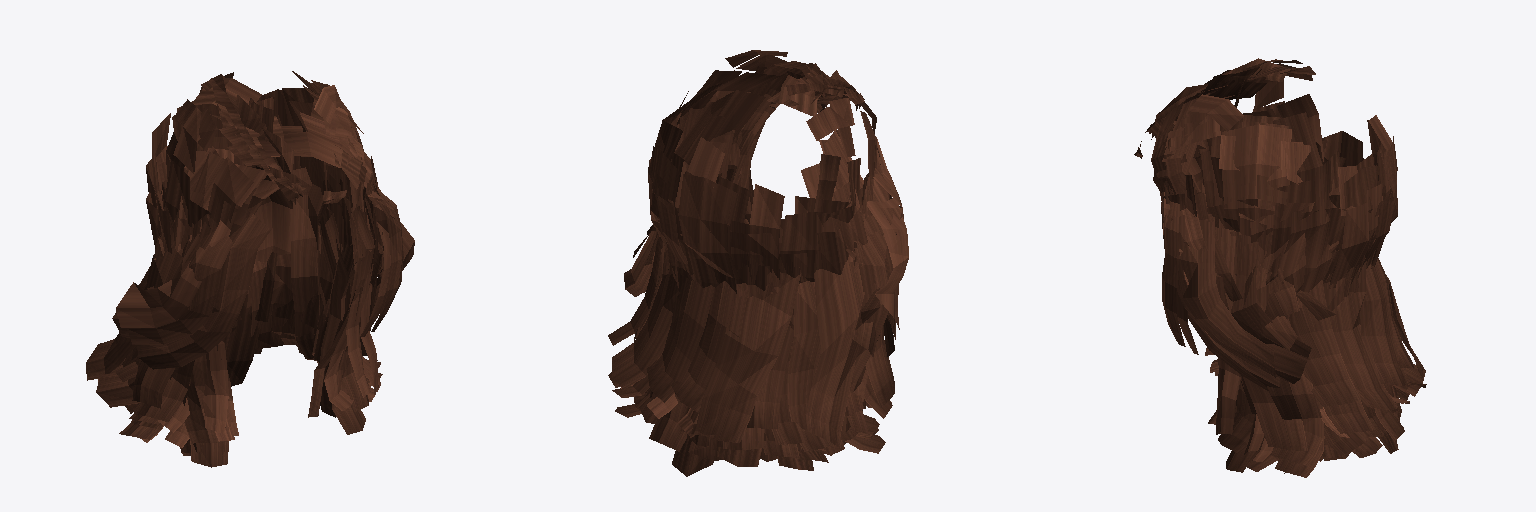
The picture shows the model from 3 angles: view 1: azimuth 30°, elevation 25°; view 2: azimuth 150°, elevation 25°; view 3: azimuth 270°, elevation 25°; orthographic projection.
Visible parts, largest first — view 1: cloth_3:Hair; view 2: cloth_3:Hair; view 3: cloth_3:Hair.
Boxes of the visible parts, box(x1,y1,x2,y2) form: cloth_3:Hair: box(86, 71, 414, 467); cloth_3:Hair: box(608, 50, 908, 476); cloth_3:Hair: box(1134, 58, 1426, 477).
Size of the model in its own units: 23.69 by 31.03 by 22.55.
1 materials, 1 textured.